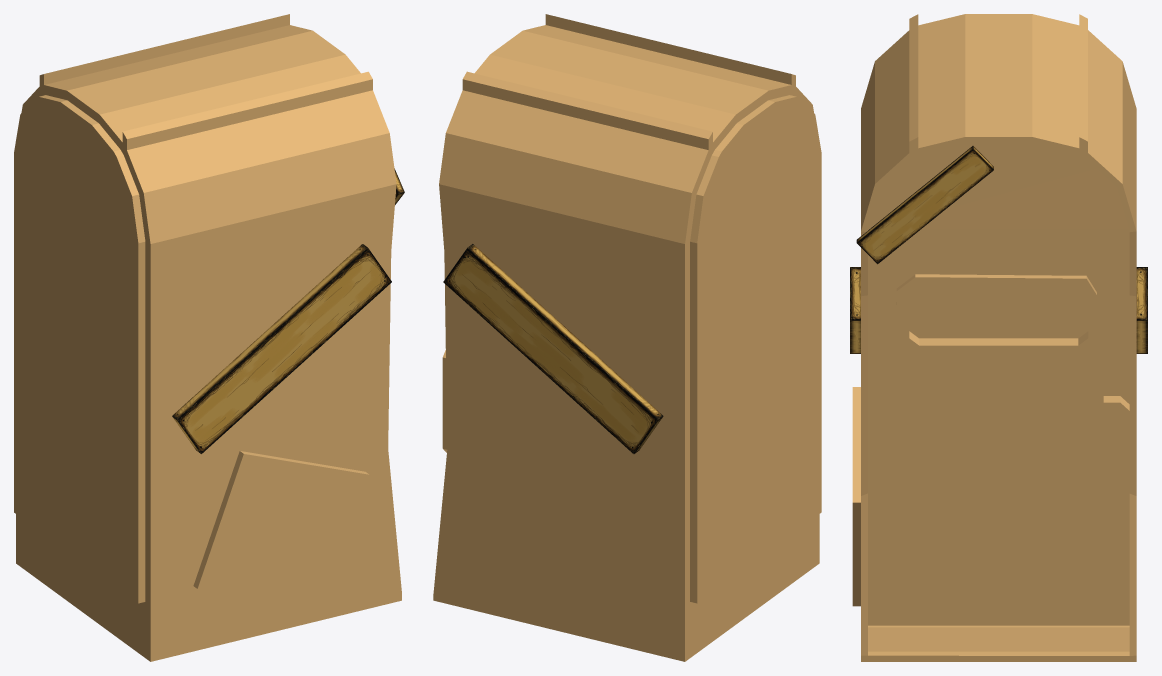
Rendered from shkaf2.fbx.
3 renders of one model, left to right at view 1: azimuth 30°, elevation 25°; view 2: azimuth 150°, elevation 25°; view 3: azimuth 270°, elevation 25°, orthographic. The views are drawn at different scales.
Visible parts, largest first — view 1: Plane, Plane.005, Plane.003; view 2: Plane, Plane.002; view 3: Plane.001, Plane, Plane.004, Plane.005, Plane.002, Plane.003.
Boxes of the visible parts, x1,y1,x2,y2 form: Plane: (14, 14, 401, 661); Plane.005: (193, 451, 369, 609); Plane.003: (172, 244, 391, 453); Plane: (433, 14, 821, 661); Plane.002: (443, 244, 663, 453); Plane.001: (868, 228, 1129, 625); Plane: (861, 14, 1136, 661); Plane.004: (856, 146, 993, 264); Plane.005: (852, 387, 860, 606); Plane.002: (1136, 267, 1147, 353); Plane.003: (850, 267, 860, 353).
Bounding box in the file's own units: 223 × 418 × 216.
